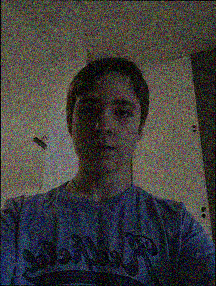without_mask: (71, 92, 140, 175)
